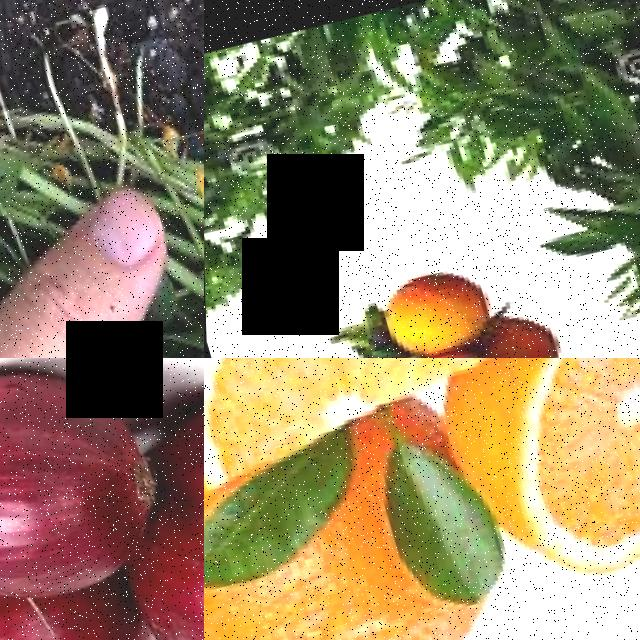onion: (0, 358, 178, 625), (124, 358, 204, 640), (0, 563, 175, 640)
orange: (204, 446, 511, 640), (441, 358, 640, 595), (204, 358, 521, 494), (371, 257, 500, 358)
